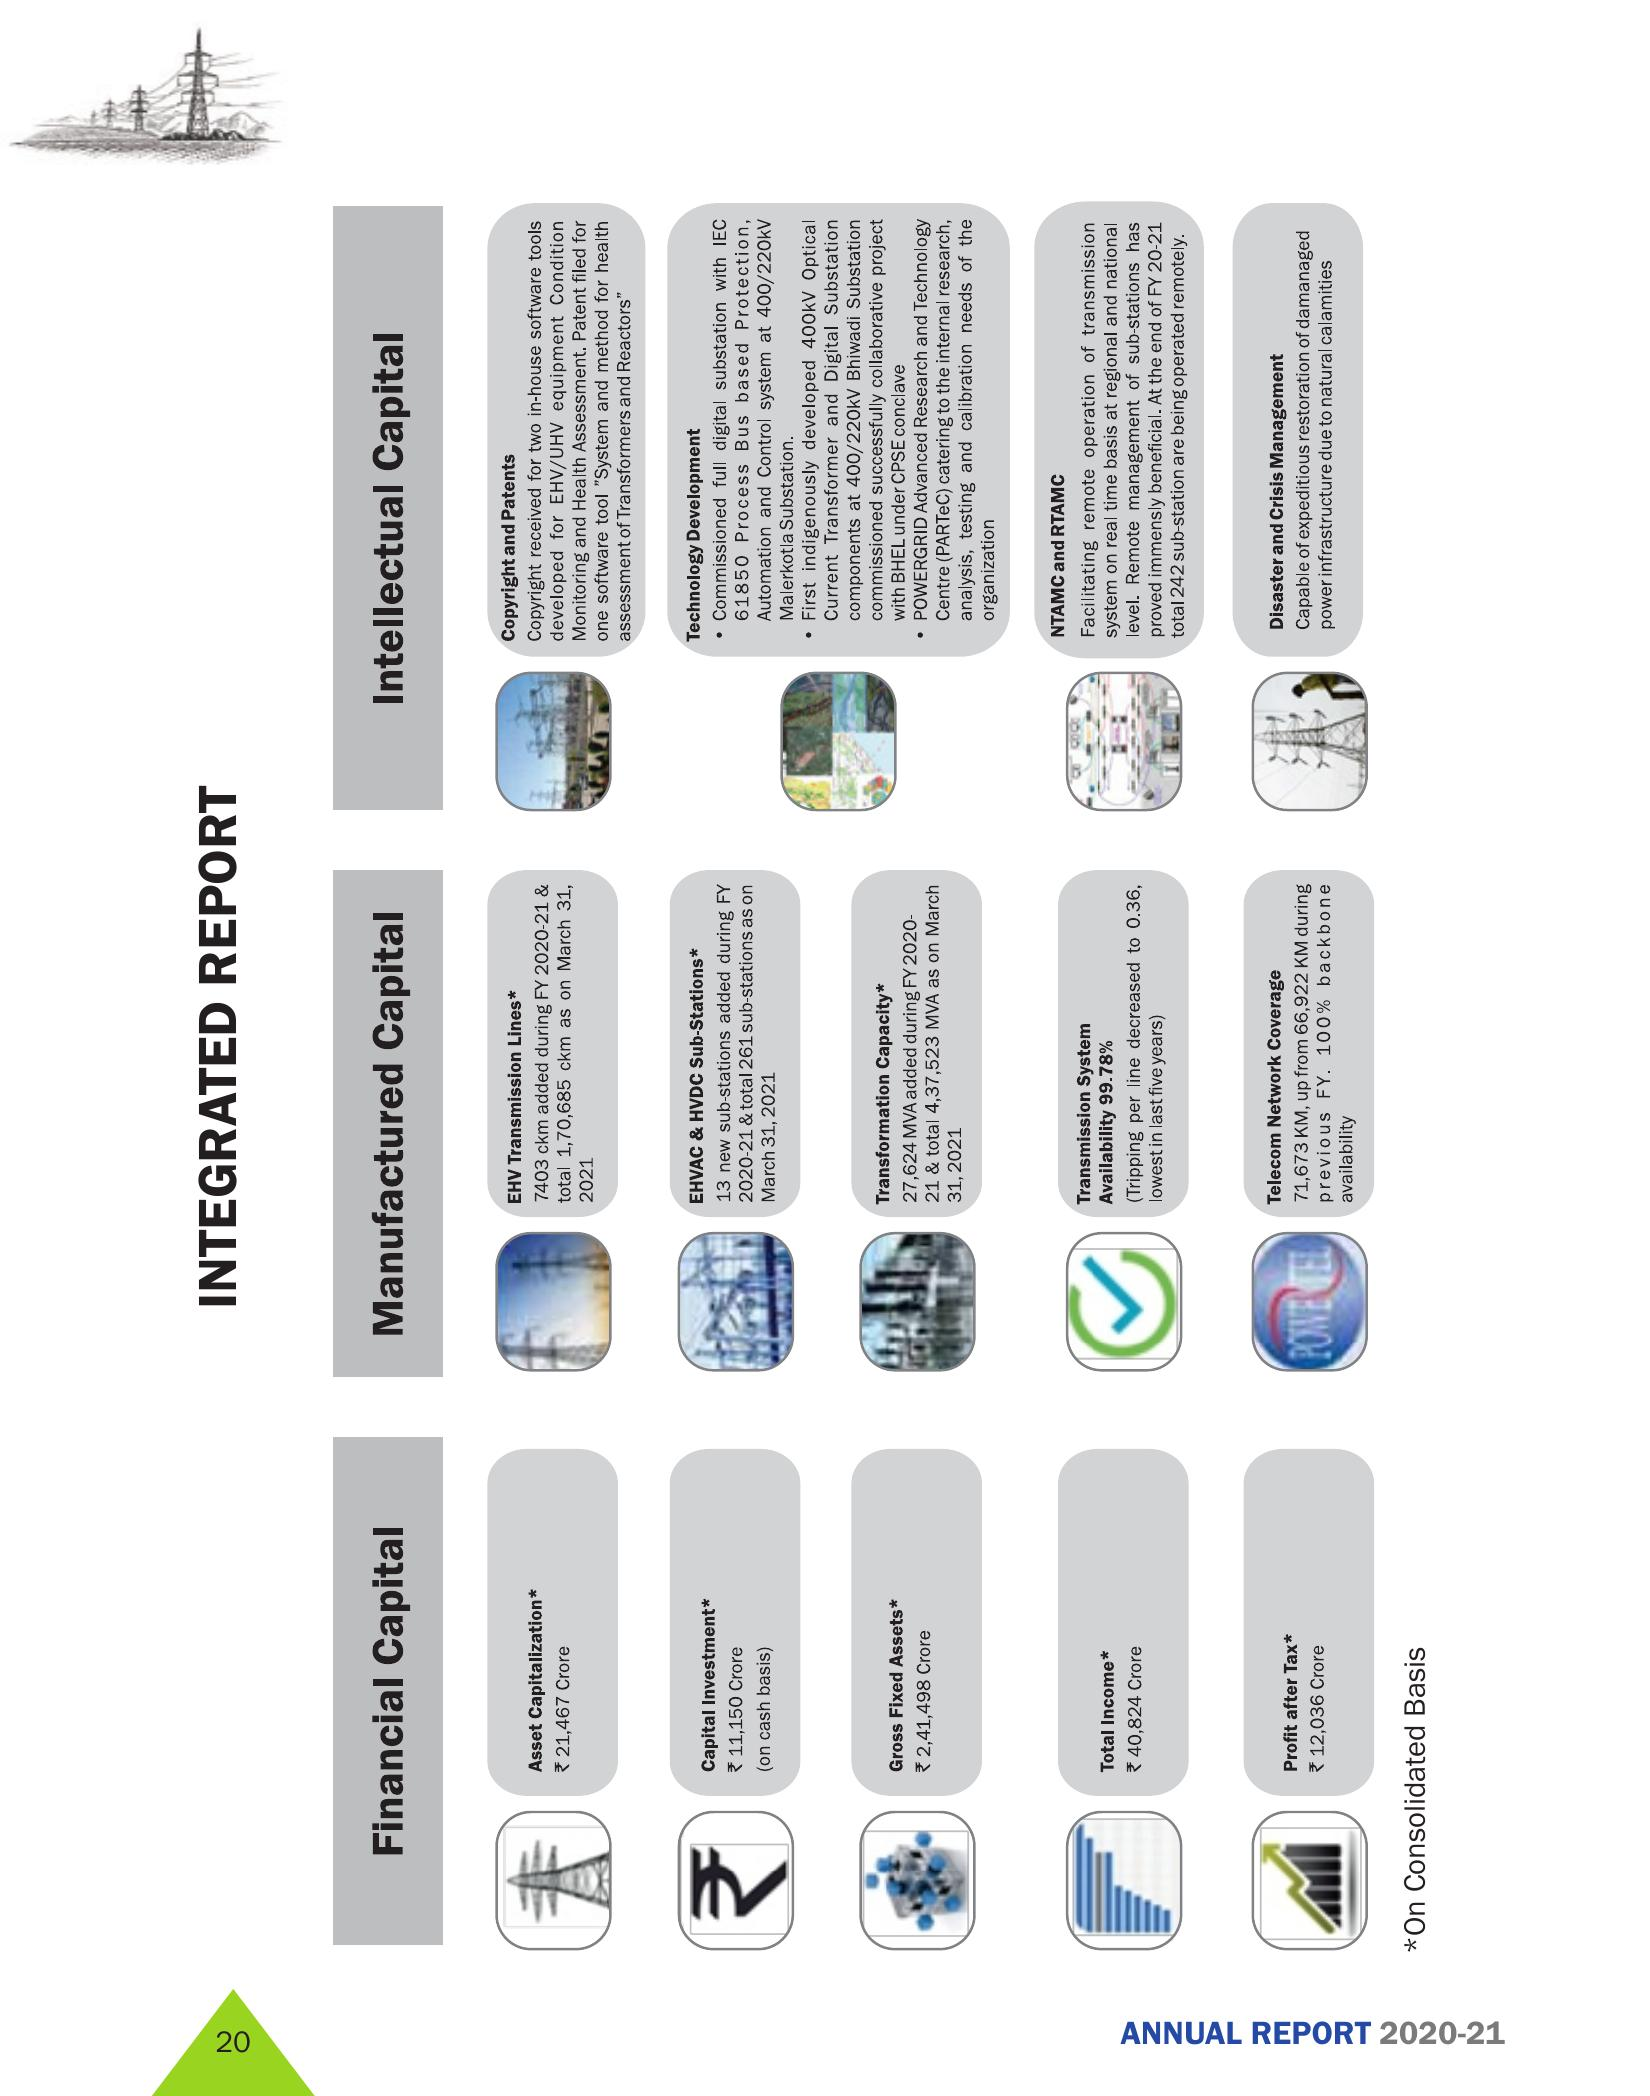Footer: (0, 1979, 1650, 2093)
Header: (0, 0, 1650, 175)
Image: (306, 172, 1466, 1956)
